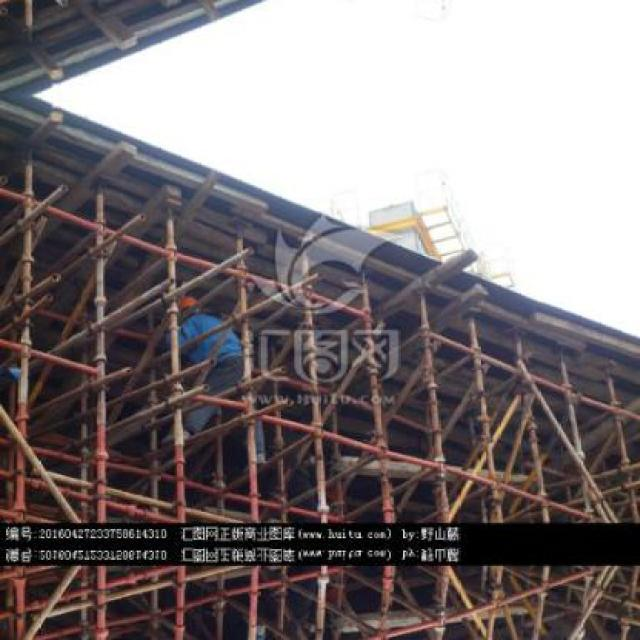helmet: (165, 284, 204, 318)
